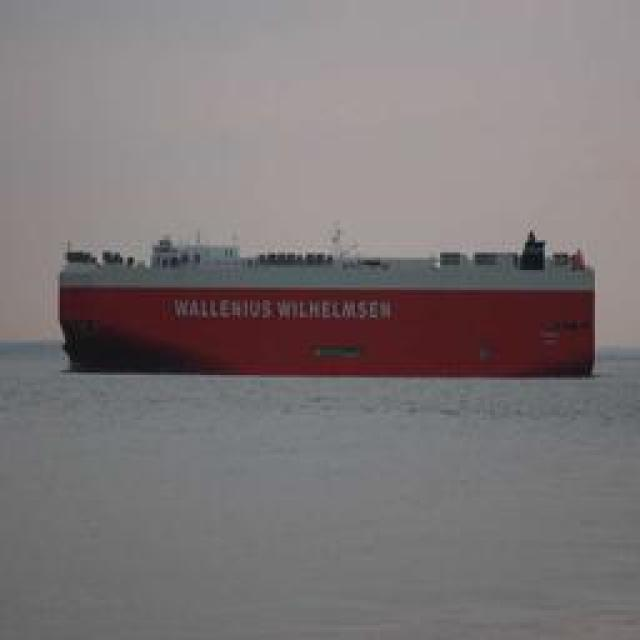CIV_Ship: (61, 224, 594, 378)
